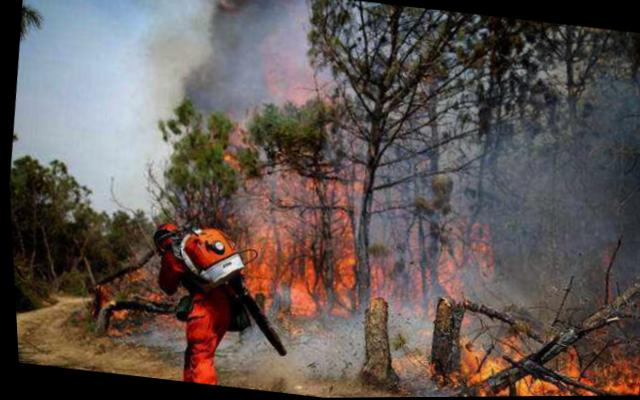fire: (192, 49, 518, 337), (417, 325, 637, 397), (90, 259, 193, 342)
